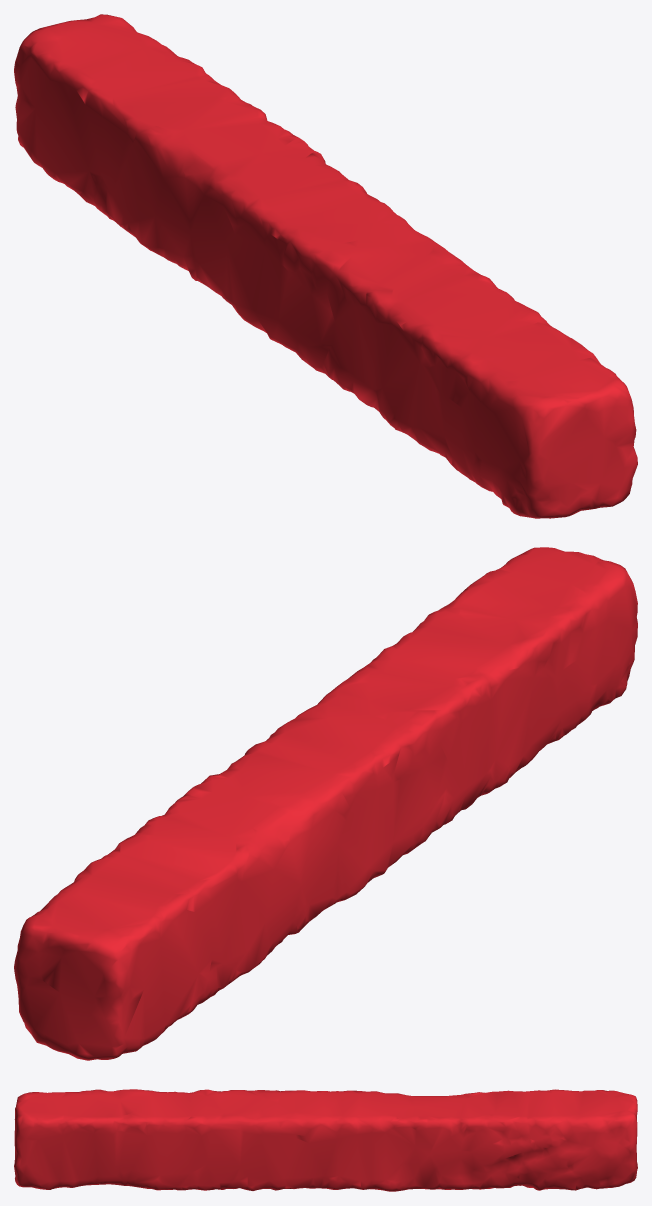
Rendered from SM_Stone_A_01.fbx.
The picture shows the model from 3 angles, top to bottom: view 1: azimuth 30°, elevation 25°; view 2: azimuth 150°, elevation 25°; view 3: azimuth 270°, elevation 25°; orthographic projection. The views are drawn at different scales.
Parts seen in each view (by area): view 1: Low.001; view 2: Low.001; view 3: Low.001.
Boxes of the visible parts, x1,y1,x2,y2 form: Low.001: (14, 14, 637, 518); Low.001: (14, 547, 637, 1060); Low.001: (14, 1089, 637, 1191).
Bounding box in the file's own units: 21.89 × 21.01 × 164.
